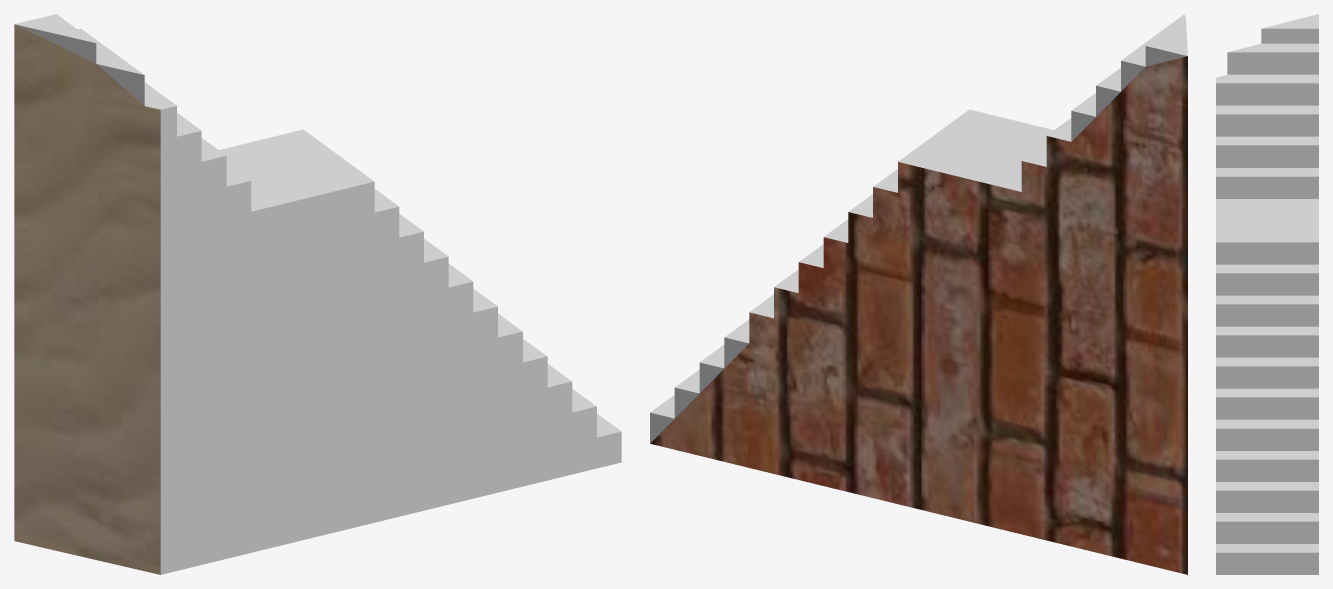
The model's file is test_stair.dae.
The picture shows the model from 3 angles, left to right: view 1: azimuth 30°, elevation 25°; view 2: azimuth 150°, elevation 25°; view 3: azimuth 270°, elevation 25°; orthographic projection. The views are drawn at different scales.
Visible parts, largest first — view 1: base_link; view 2: base_link; view 3: base_link.
Part boxes in pixels (x1,y1,x2,y2): base_link: [14, 14, 621, 574]; base_link: [650, 14, 1187, 574]; base_link: [1216, 14, 1318, 574].
Bounding box in the file's own units: 5.43 × 1.25 × 5.
